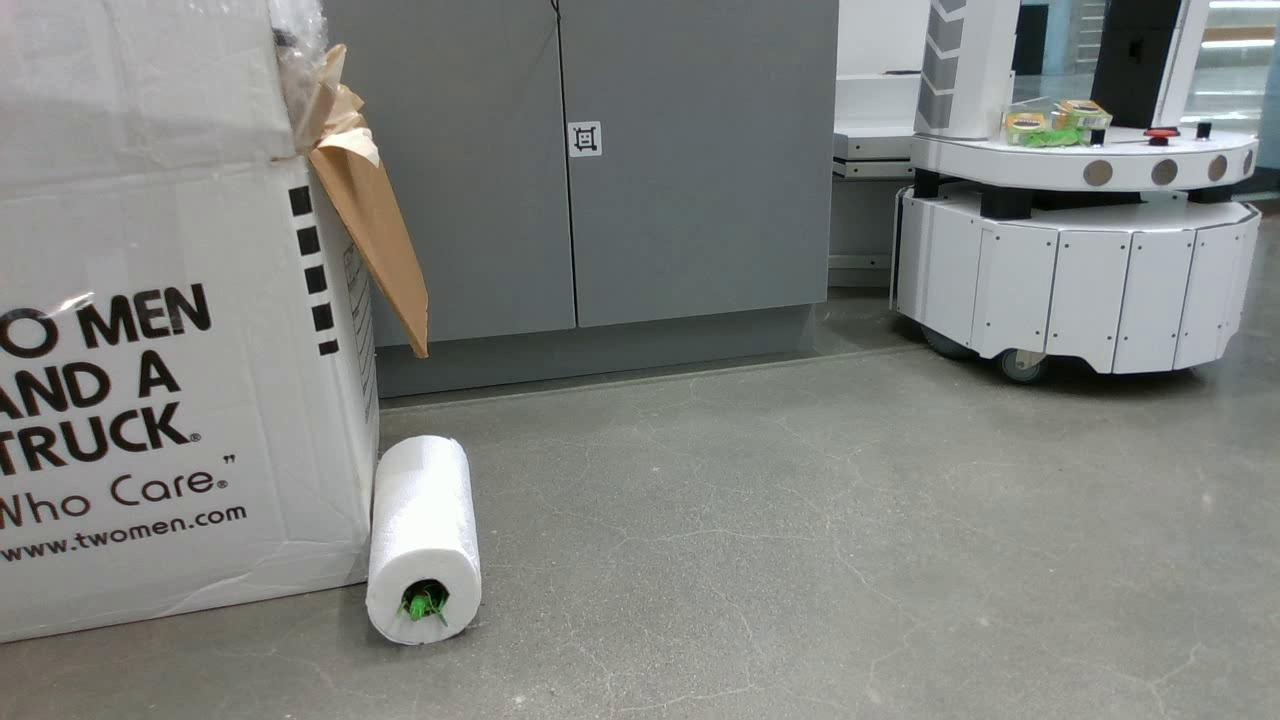grasshopper: (395, 586, 452, 623), (1013, 127, 1095, 150)
